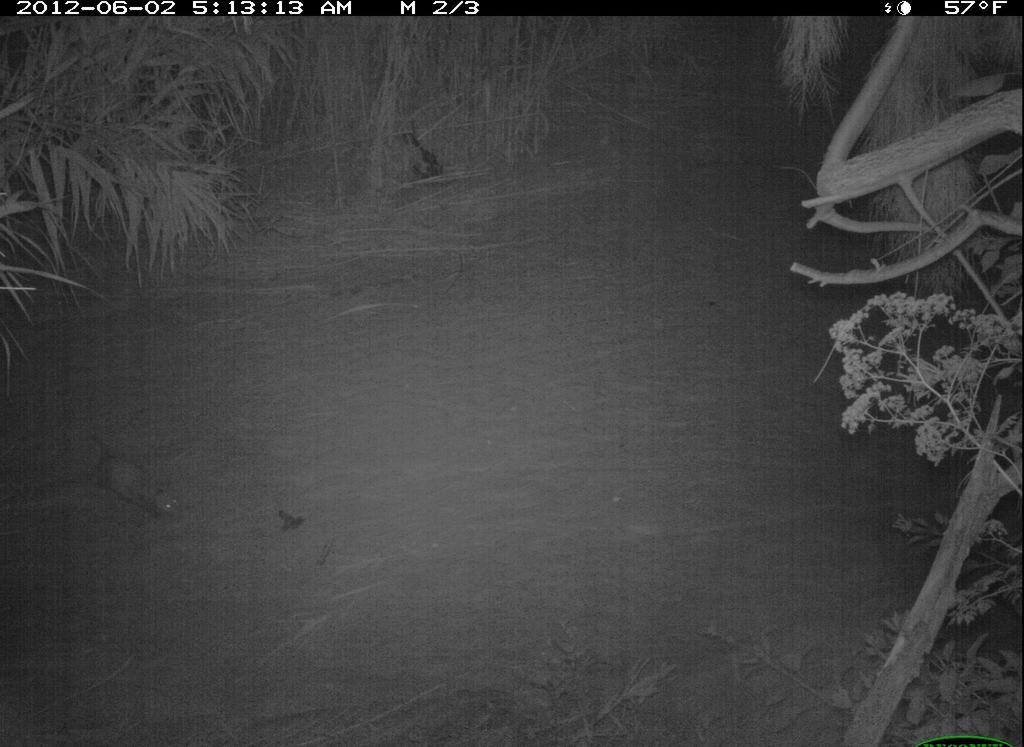opossum: (79, 419, 193, 528)
